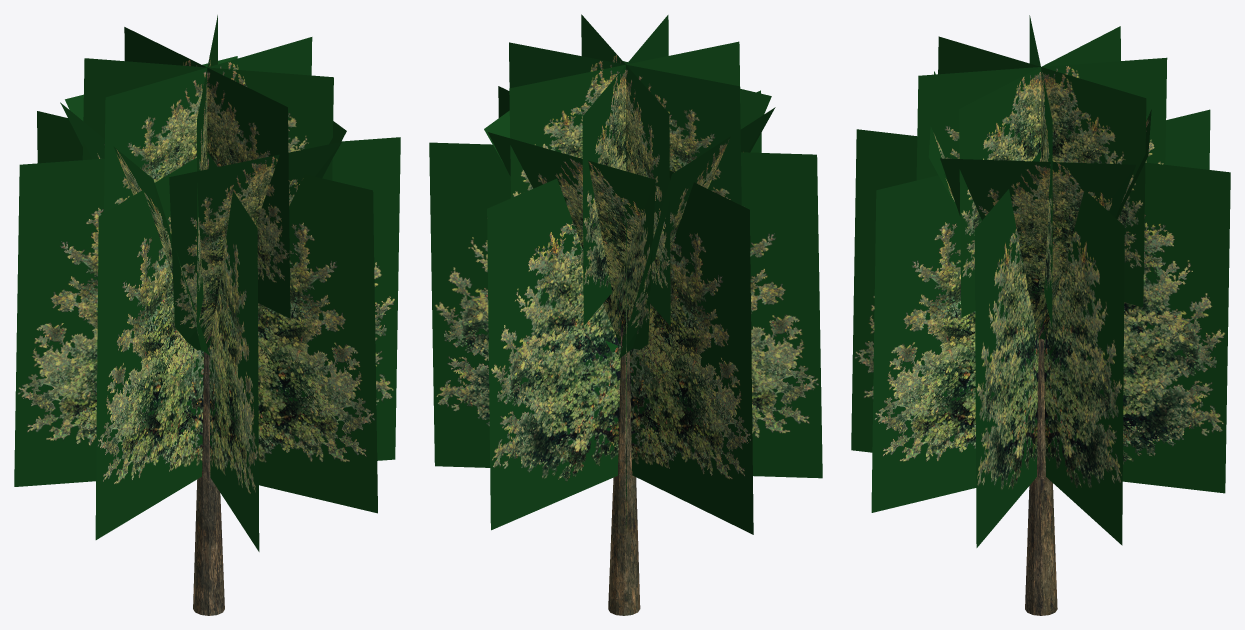
The model's file is Tree01.fbx.
3 views of the same model, side by side, from view 1: azimuth 30°, elevation 25°; view 2: azimuth 150°, elevation 25°; view 3: azimuth 270°, elevation 25° (orthographic).
Visible parts, largest first — view 1: U3DMesh; view 2: U3DMesh; view 3: U3DMesh.
Part boxes in pixels (x1,y1,x2,y2): U3DMesh: (14, 15, 400, 615); U3DMesh: (429, 14, 822, 615); U3DMesh: (851, 15, 1230, 615).
Bounding box in the file's own units: 17.01 × 27.54 × 17.48.
